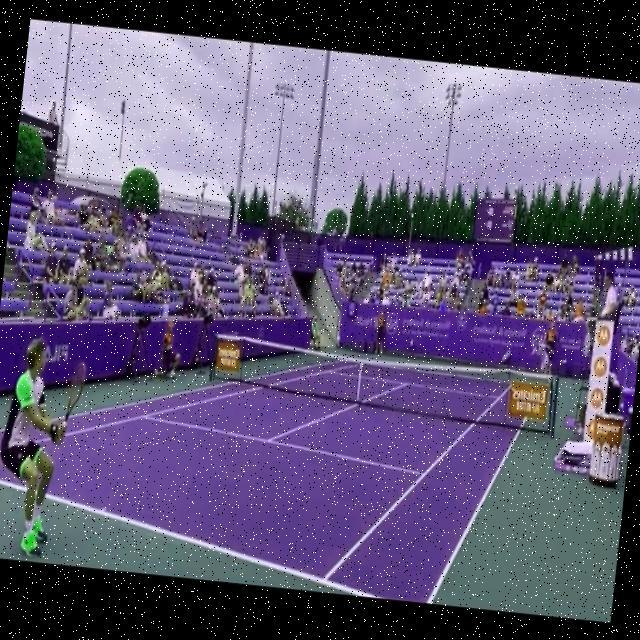court: (0, 322, 538, 611)
net: (204, 332, 562, 442)
player: (0, 334, 90, 561)
